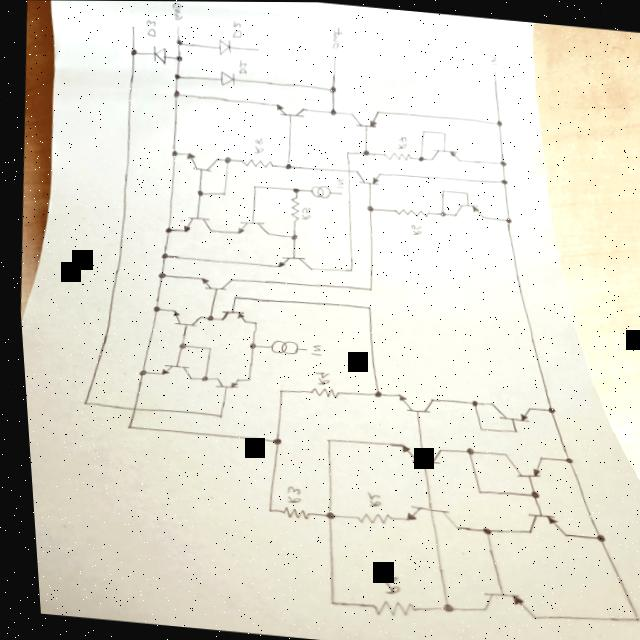crossover: (125, 404, 133, 411), (344, 167, 348, 171)
diode: (151, 43, 168, 64), (216, 37, 233, 56), (218, 69, 235, 85)
junction: (474, 525, 486, 536), (433, 602, 447, 611), (588, 531, 599, 542), (266, 435, 277, 446), (281, 160, 292, 171), (458, 445, 469, 456), (288, 184, 299, 195), (318, 596, 330, 606), (362, 203, 373, 213), (326, 83, 337, 93), (171, 87, 181, 98), (318, 509, 329, 519), (522, 488, 534, 497), (368, 388, 378, 398), (174, 37, 184, 47), (129, 46, 138, 57), (154, 270, 164, 279), (148, 304, 158, 313), (558, 454, 568, 463), (173, 340, 183, 349), (192, 188, 202, 197), (161, 224, 171, 233), (496, 157, 506, 166), (414, 153, 424, 162), (174, 53, 183, 63), (464, 398, 473, 407), (501, 215, 510, 224), (493, 117, 502, 126), (133, 368, 142, 377), (327, 106, 336, 115), (498, 176, 507, 185), (157, 251, 166, 260), (259, 504, 268, 513), (168, 148, 177, 157), (541, 404, 550, 413), (286, 231, 295, 240), (221, 154, 230, 163), (360, 148, 369, 156), (436, 208, 444, 217), (318, 435, 327, 443), (244, 341, 252, 350), (76, 398, 85, 406), (624, 613, 633, 621), (272, 386, 280, 394), (469, 486, 477, 494), (362, 285, 370, 292), (218, 189, 226, 196), (342, 148, 350, 155), (418, 126, 426, 133), (172, 72, 180, 79), (196, 375, 204, 382), (203, 313, 210, 320), (120, 423, 127, 430), (212, 412, 219, 419), (362, 303, 369, 310), (344, 265, 351, 272), (249, 182, 256, 189), (241, 375, 248, 382), (437, 186, 444, 193), (439, 129, 446, 136), (507, 427, 513, 432), (473, 426, 478, 430), (229, 294, 234, 298), (462, 190, 467, 194), (203, 346, 207, 350), (249, 320, 253, 324)
resistor: (362, 596, 410, 619), (347, 508, 387, 526), (273, 503, 305, 521), (238, 154, 273, 170), (391, 205, 428, 218), (304, 384, 336, 399), (285, 193, 300, 222), (381, 149, 413, 162)
terminal: (490, 68, 498, 75), (253, 45, 261, 52), (130, 23, 138, 30), (331, 52, 338, 59), (336, 190, 341, 194), (176, 25, 180, 29), (299, 347, 303, 351)
text: (372, 569, 395, 596), (277, 483, 296, 503), (329, 24, 343, 48), (143, 16, 158, 37), (358, 489, 375, 507), (170, 1, 185, 21), (308, 369, 326, 384), (249, 135, 263, 154), (230, 19, 243, 38), (394, 133, 406, 150), (305, 342, 319, 356), (236, 59, 249, 74), (406, 221, 420, 234), (332, 175, 343, 190), (298, 204, 309, 219), (487, 53, 498, 66)
transformer: (264, 337, 296, 355), (308, 182, 330, 198)
transistor: (470, 587, 530, 618), (396, 501, 453, 529), (494, 450, 538, 479), (517, 508, 560, 537), (392, 441, 438, 467), (268, 251, 311, 274), (389, 391, 429, 415), (346, 105, 380, 131), (484, 401, 526, 422), (181, 151, 219, 174), (231, 216, 269, 238), (178, 211, 211, 235), (272, 99, 307, 121), (194, 274, 230, 293), (153, 360, 189, 379), (167, 308, 199, 328), (450, 200, 482, 219), (352, 166, 381, 186), (427, 145, 459, 163), (206, 373, 235, 390), (215, 307, 242, 323)
